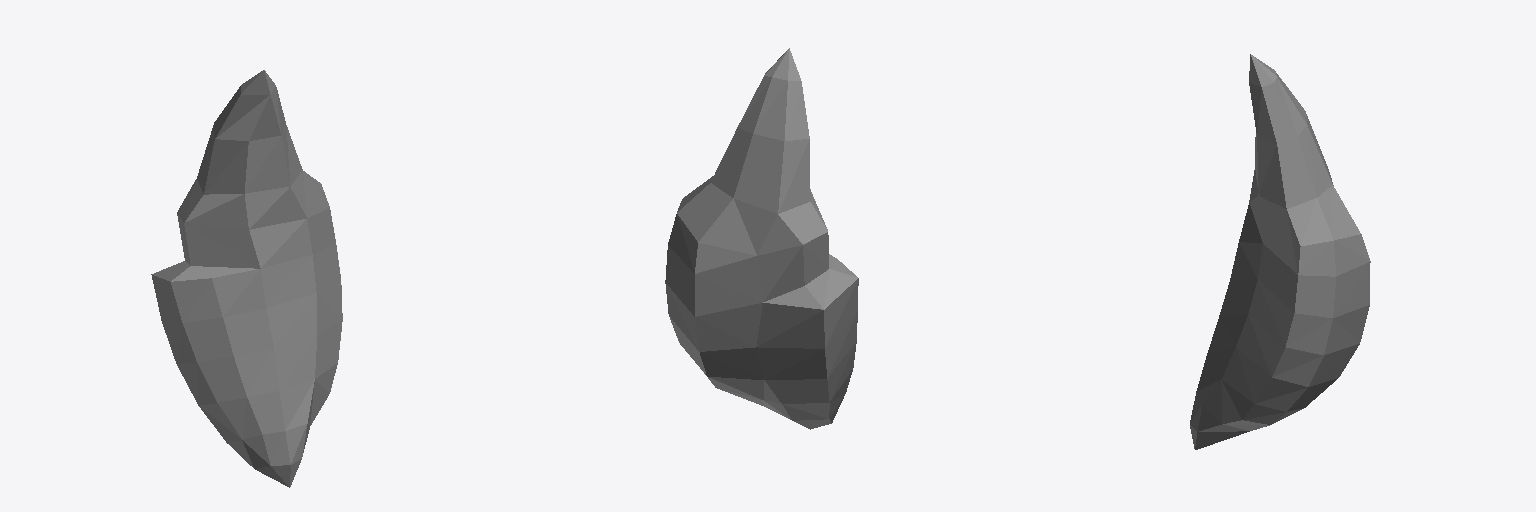
Rendered from stone_05_spikes.obj.
3 views of the same model, side by side, from view 1: azimuth 30°, elevation 25°; view 2: azimuth 150°, elevation 25°; view 3: azimuth 270°, elevation 25° (orthographic).
Visible parts, largest first — view 1: stone_05_spikes; view 2: stone_05_spikes; view 3: stone_05_spikes.
Part boxes in pixels (x1,y1,x2,y2): stone_05_spikes: (151, 70, 342, 487); stone_05_spikes: (665, 48, 858, 429); stone_05_spikes: (1190, 54, 1370, 449).
Size of the model in its own units: 134 by 288 by 119.